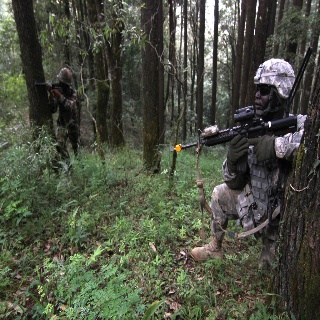rifle: (174, 104, 299, 172)
